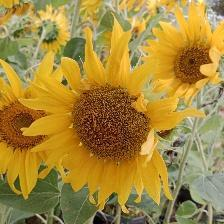sunflower: (44, 56, 174, 205)
